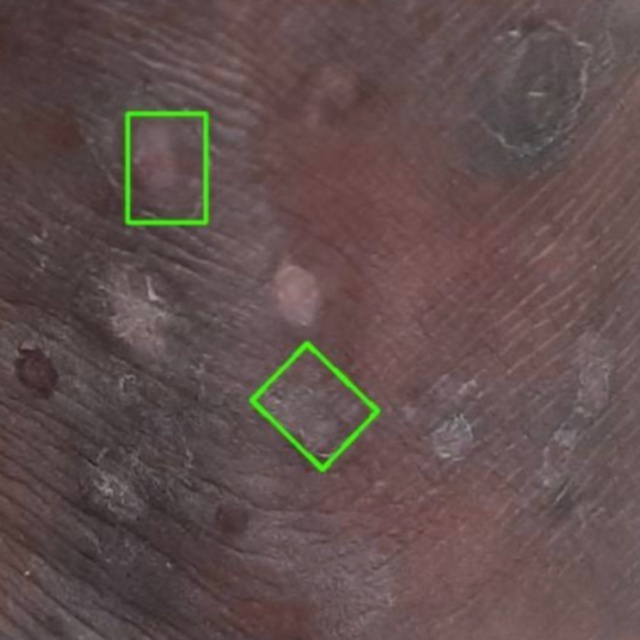Contact Dermatitis: (251, 344, 376, 469), (127, 113, 206, 222)
